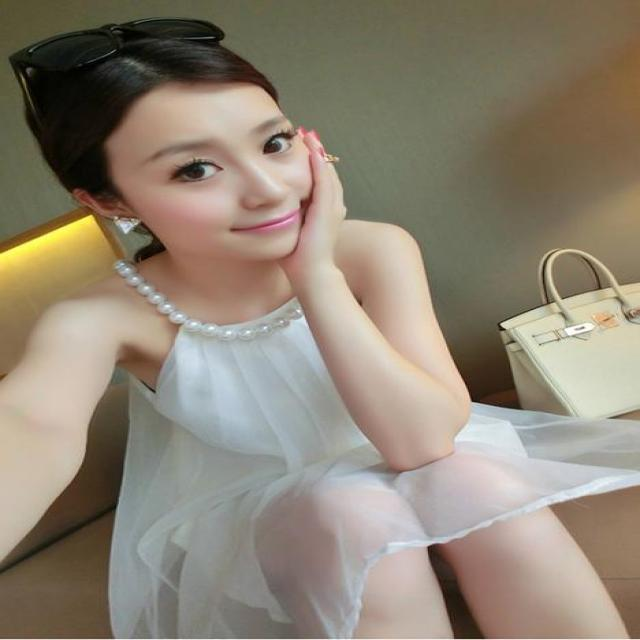sling dress: (109, 225, 639, 640)
